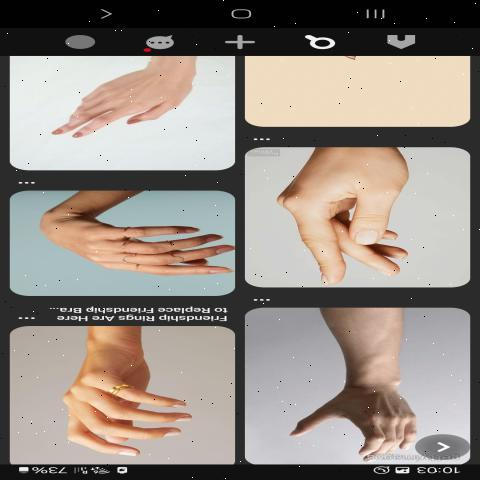Hands: (264, 314, 433, 474), (16, 57, 213, 171), (268, 139, 415, 287), (49, 326, 198, 464), (30, 194, 235, 294)
